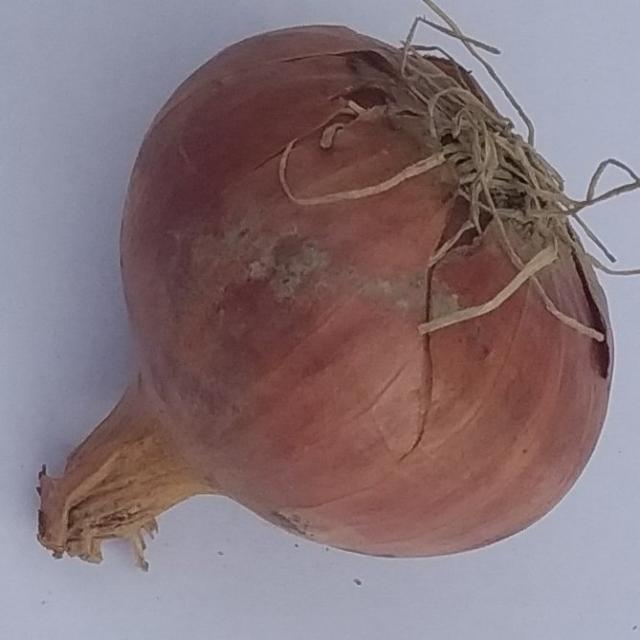onion: (34, 15, 630, 573)
